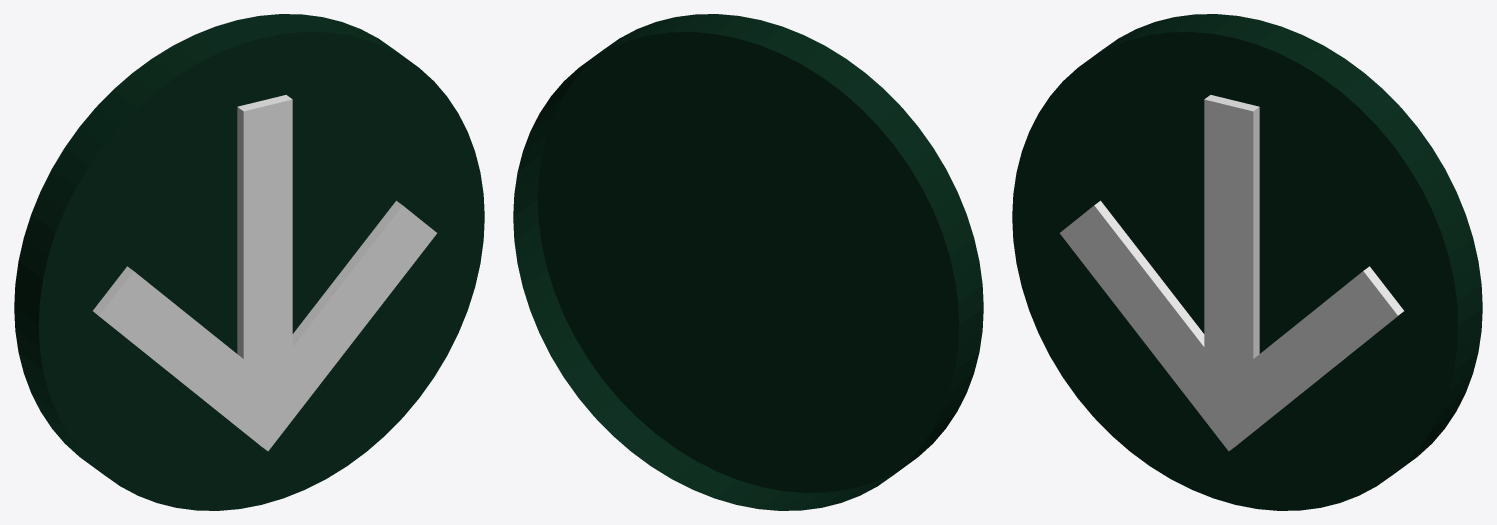
File: DotWithArrow.glb
The picture shows the model from 3 angles, left to right: view 1: azimuth 30°, elevation 25°; view 2: azimuth 150°, elevation 25°; view 3: azimuth 330°, elevation 25°; orthographic projection.
Parts seen in each view (by area): view 1: DotWithArrow; view 2: DotWithArrow; view 3: DotWithArrow.
Part boxes in pixels (x1,y1,x2,y2): DotWithArrow: (14,14,484,510); DotWithArrow: (513,14,983,510); DotWithArrow: (1012,14,1482,510).
Size of the model in its own units: 0.22 by 0.22 by 0.0265.
